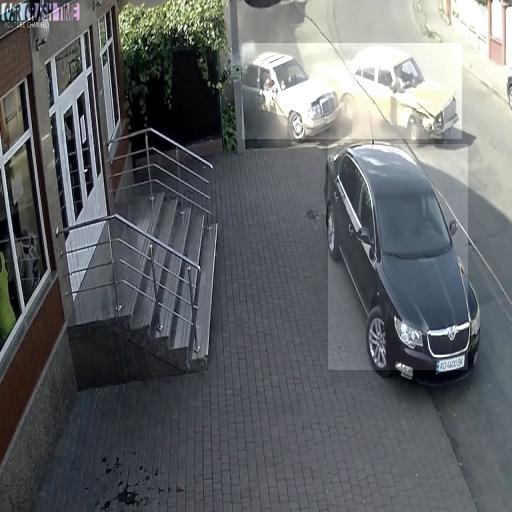小汽车: (328, 144, 468, 370)
小汽车撞小汽车: (242, 43, 462, 139)
